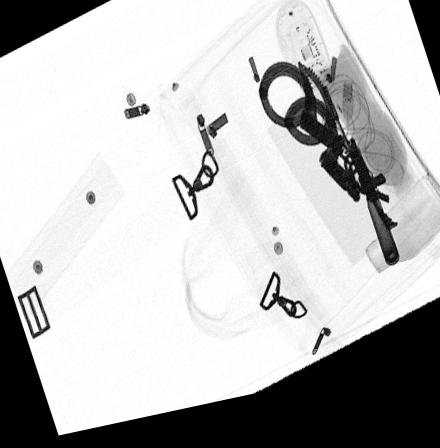Bullet: (350, 151, 400, 283)
Gun: (321, 98, 398, 250)
HandCuffs: (255, 71, 375, 217)
